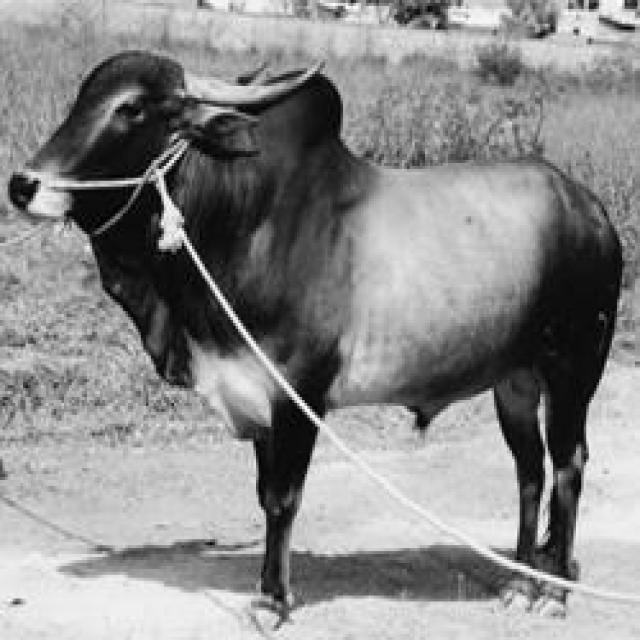Cow: (5, 45, 625, 631)
